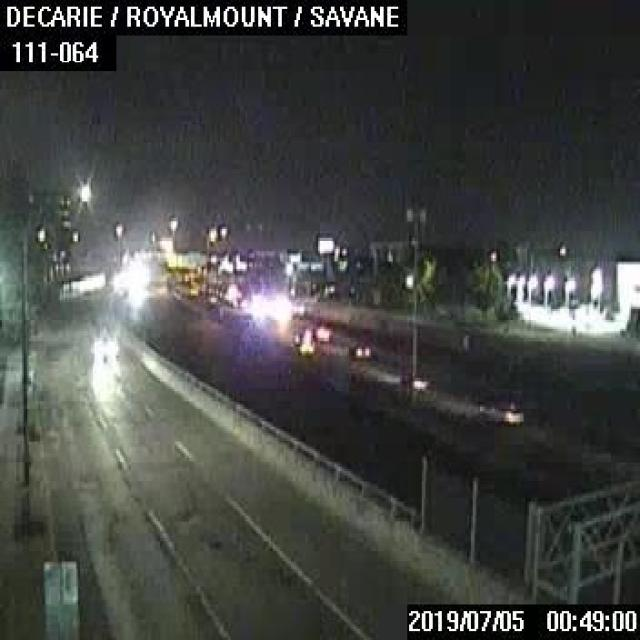vehicle: (476, 396, 524, 422), (345, 340, 371, 358)
